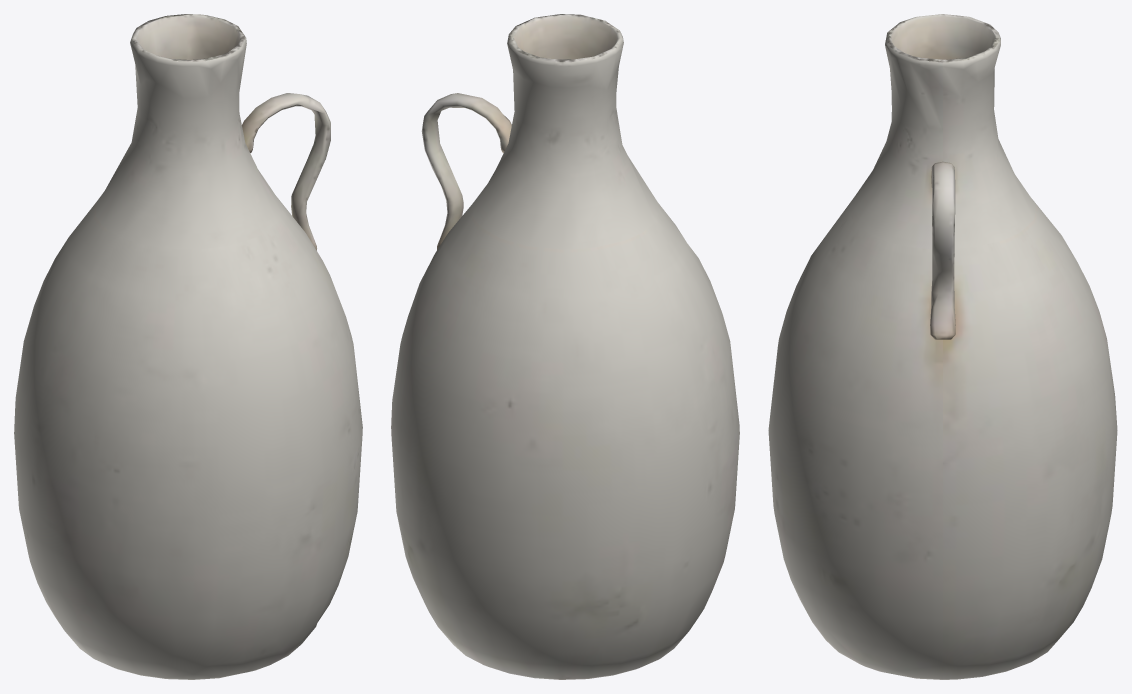
Rendered from ceramic_vase_04.glb.
3 renders of one model, left to right at view 1: azimuth 30°, elevation 25°; view 2: azimuth 150°, elevation 25°; view 3: azimuth 270°, elevation 25°, orthographic.
Visible parts, largest first — view 1: ceramic_vase_04; view 2: ceramic_vase_04; view 3: ceramic_vase_04.
Boxes of the visible parts, x1,y1,x2,y2 form: ceramic_vase_04: (14,14,362,679); ceramic_vase_04: (391,14,739,679); ceramic_vase_04: (768,14,1117,679).
Size of the model in its own units: 0.1811 by 0.3419 by 0.1811.
1 material, 1 textured.
